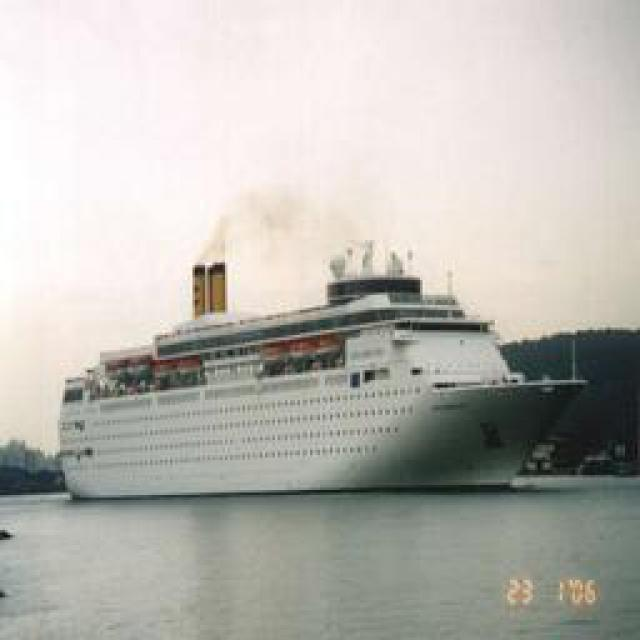Ship: (66, 255, 604, 503)
